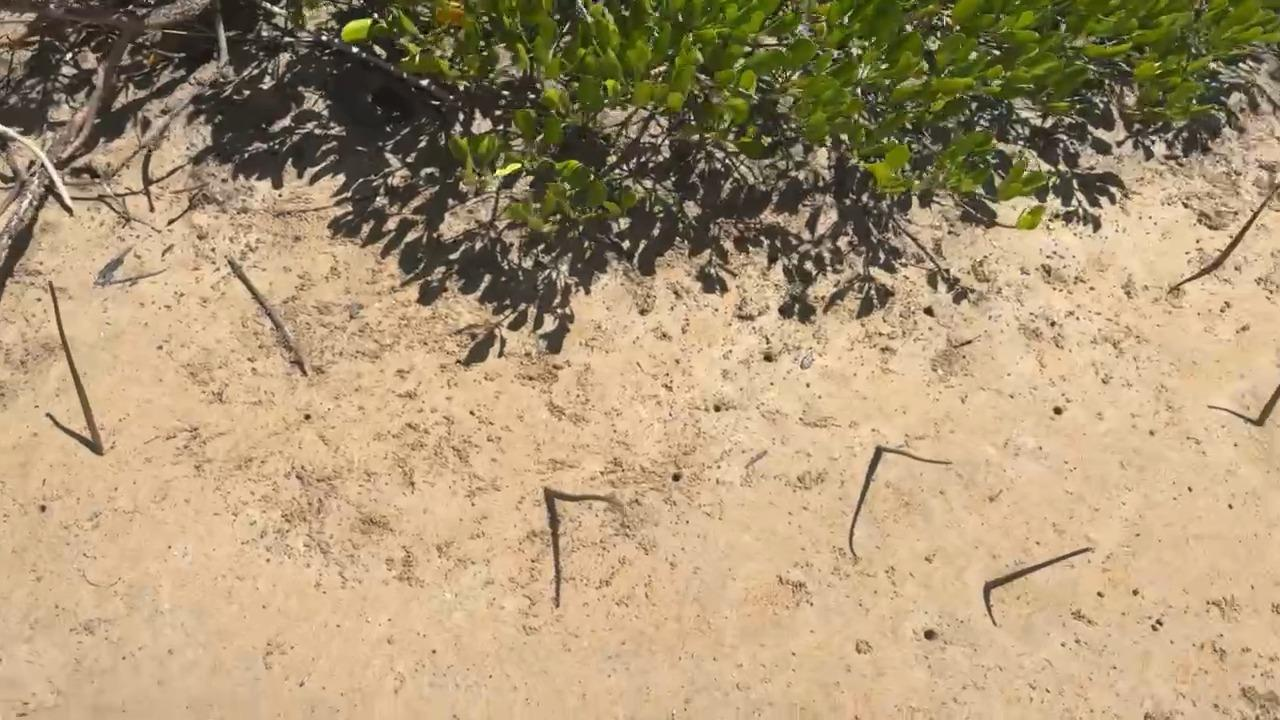Tree: (45, 278, 105, 456), (1209, 182, 1280, 270), (984, 546, 1091, 591), (876, 444, 952, 465), (542, 487, 613, 505), (1253, 382, 1280, 425)
